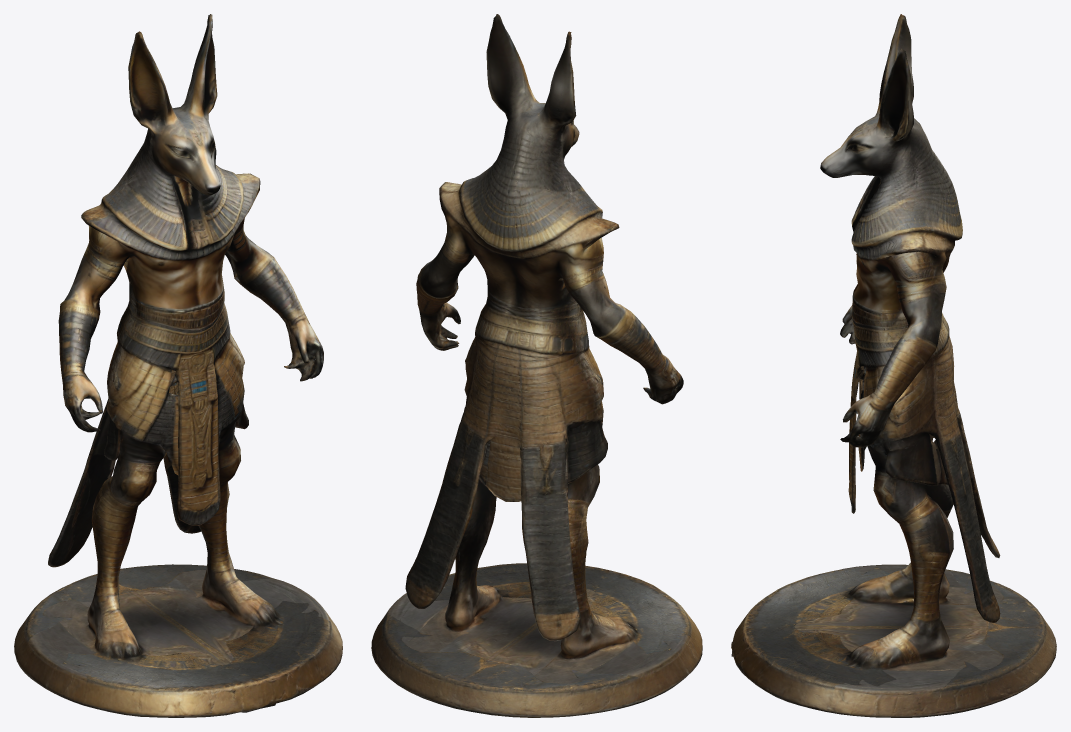
Rendered from anubis.glb.
3 views of the same model, side by side, from view 1: azimuth 30°, elevation 25°; view 2: azimuth 150°, elevation 25°; view 3: azimuth 270°, elevation 25° (orthographic).
Parts seen in each view (by area): view 1: Mesh1_Mesh1.120; view 2: Mesh1_Mesh1.120; view 3: Mesh1_Mesh1.120.
Boxes of the visible parts, left/top/right/bottom form: Mesh1_Mesh1.120: left=14, top=14, right=342, bottom=717; Mesh1_Mesh1.120: left=371, top=14, right=702, bottom=717; Mesh1_Mesh1.120: left=731, top=14, right=1056, bottom=717.
Size of the model in its own units: 0.954 by 2 by 0.9531.
Materials: 1 (1 with a texture image).
